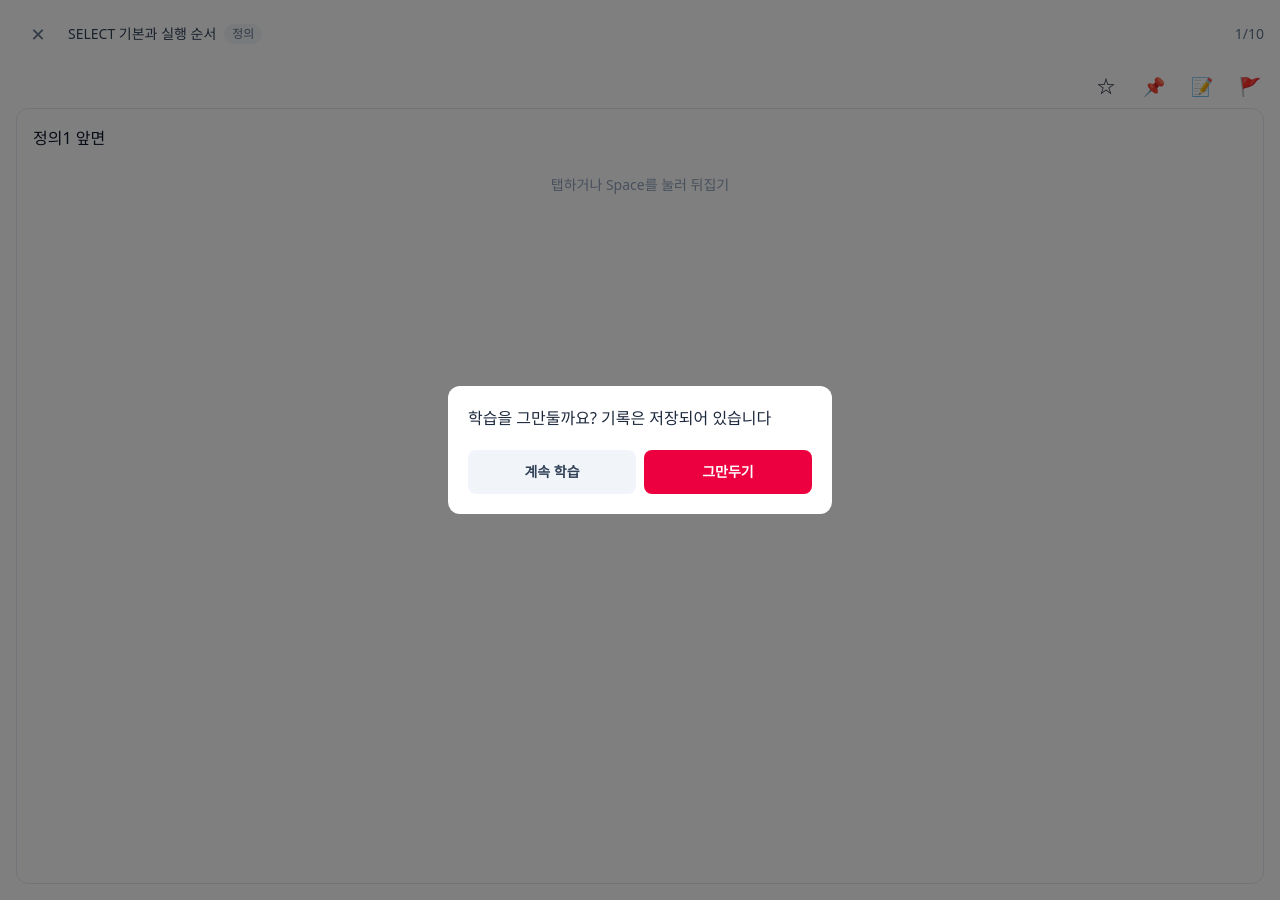
Test: StudyPage - 학습 중 나가기(뒤로 가기) › 확인 모달에서 "계속 학습"을 누르면 세션이 그대로 유지된다
Expected: the text "1/10" is shown, [1235, 24, 1264, 44]
Expected: the text "학습을 그만둘까요? 기록은 저장되어 있습니다" is shown, [468, 406, 812, 430]
Click the button "계속 학습" at (552, 472), box [468, 450, 636, 494]
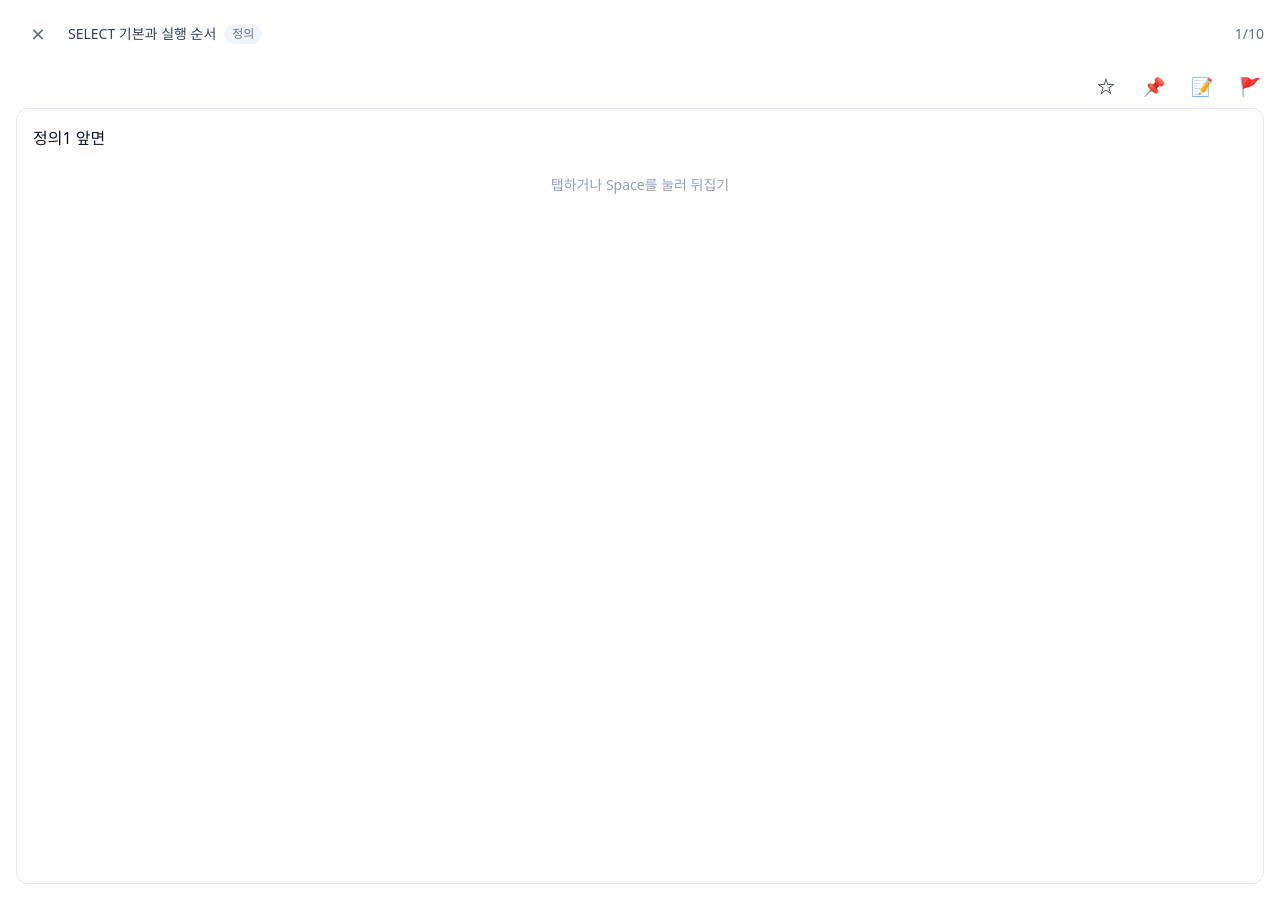
Expected: the text "1/10" is shown, [1235, 24, 1264, 44]
Now the text "학습을 그만둘까요? 기록은 저장되어 있습니다" is gone
